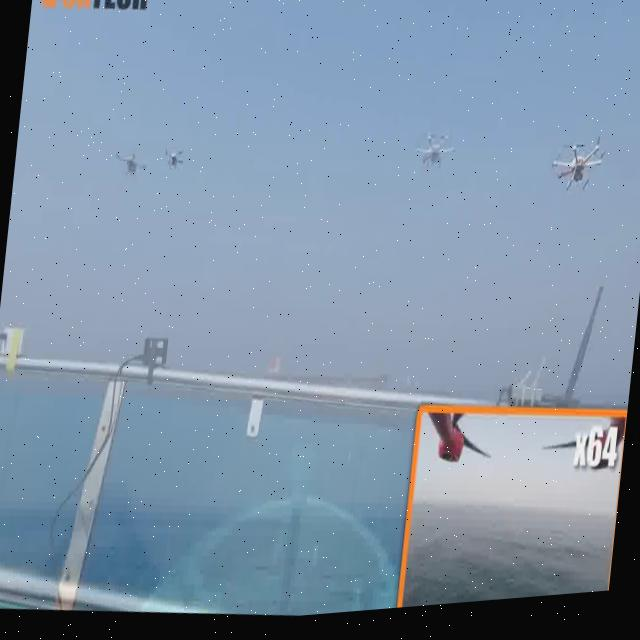drone: (152, 123, 206, 195)
